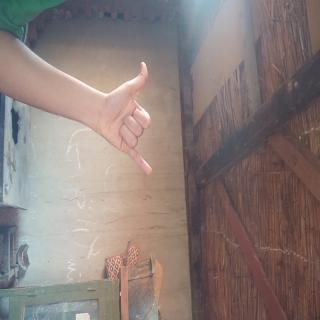YA: (39, 217, 134, 296)
